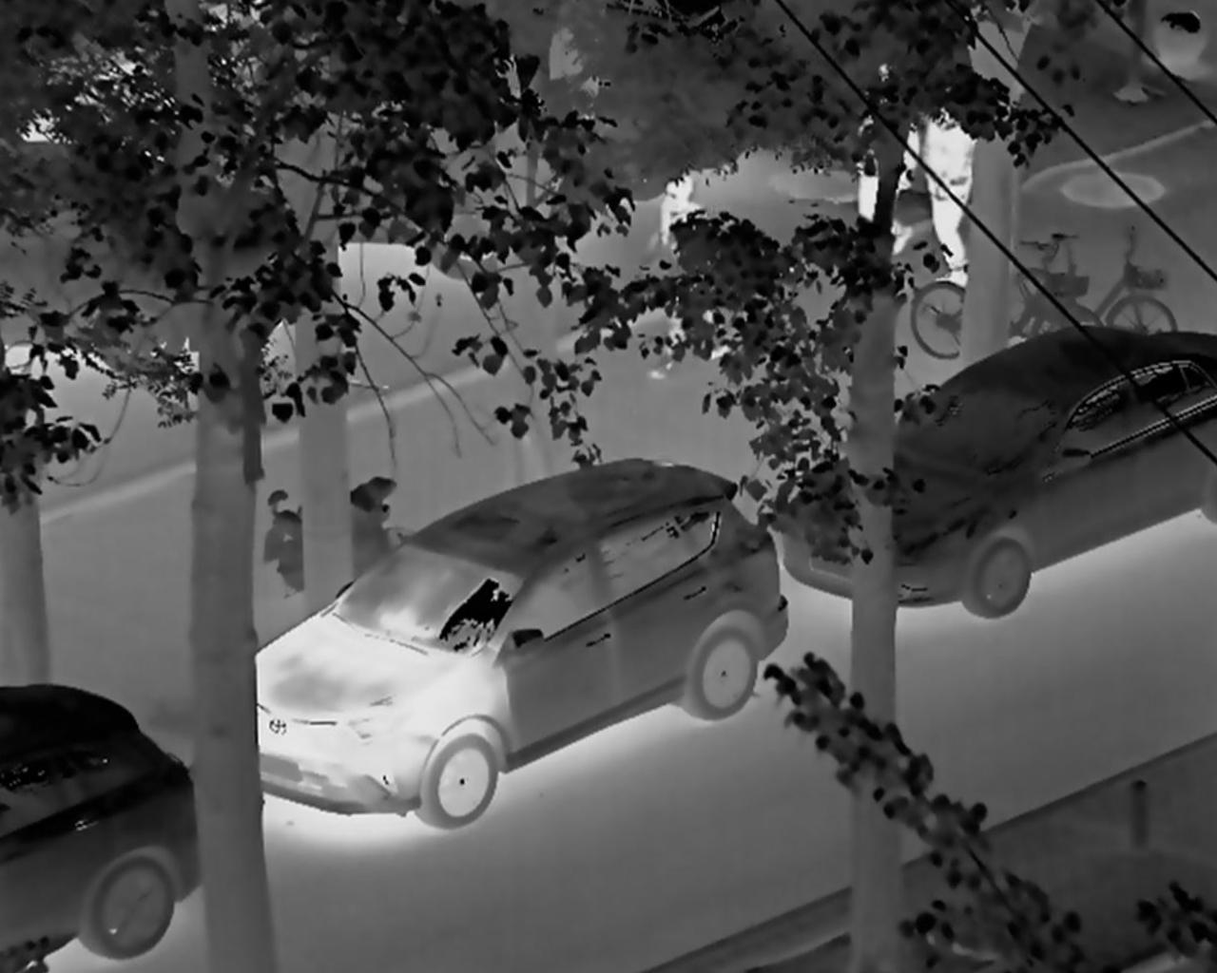person: (647, 149, 730, 384), (923, 73, 976, 301)
